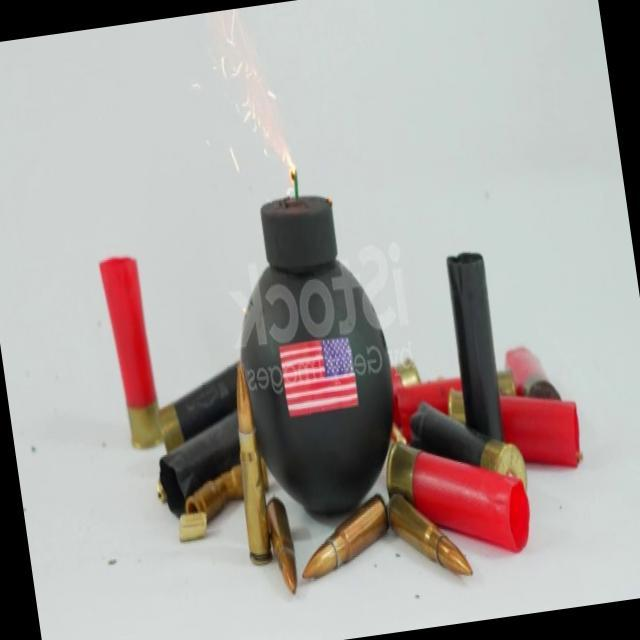grenade: (212, 176, 420, 548)
